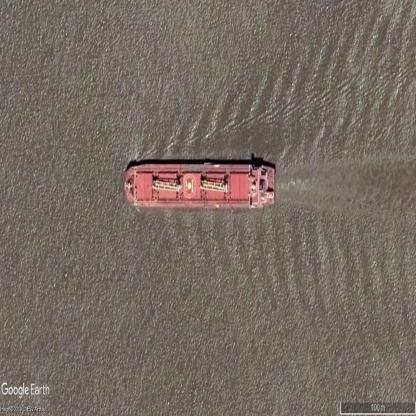ship: (122, 162, 279, 213)
